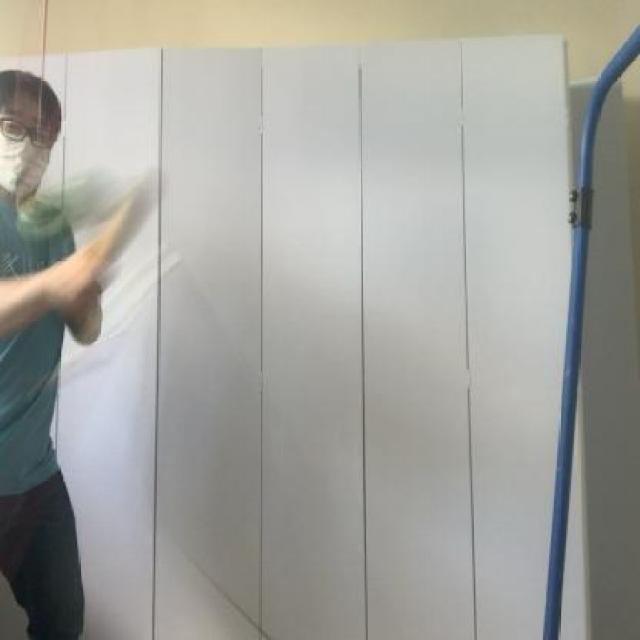baseball: (14, 161, 128, 250)
